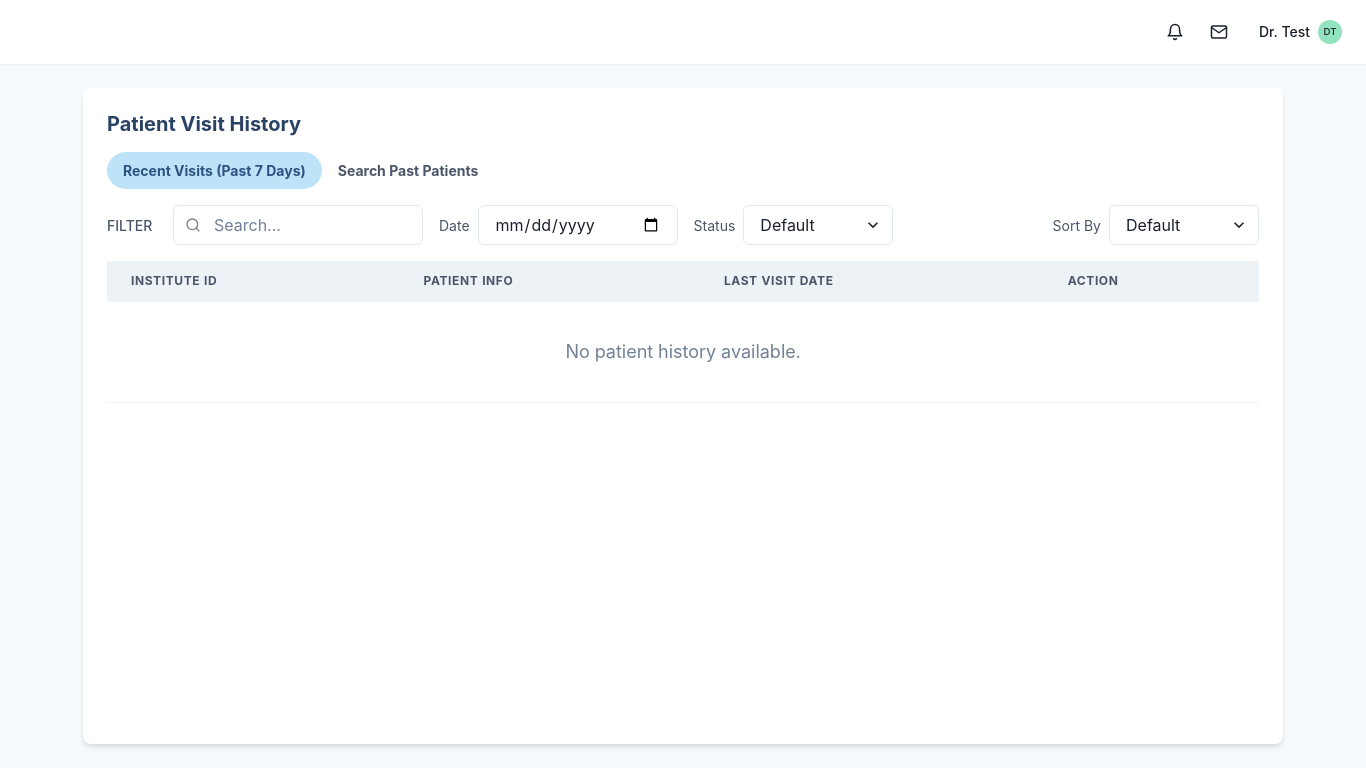
Scenario: AllPatients Component › allows searching past patients under the search tab
Expected: the tab "Recent Visits (Past 7 Days)" is shown, [107,152,322,189]
# Click Search Past Patients tab
Click the tab "Search Past Patients". click: [408, 170]
box: [322,152,494,189]
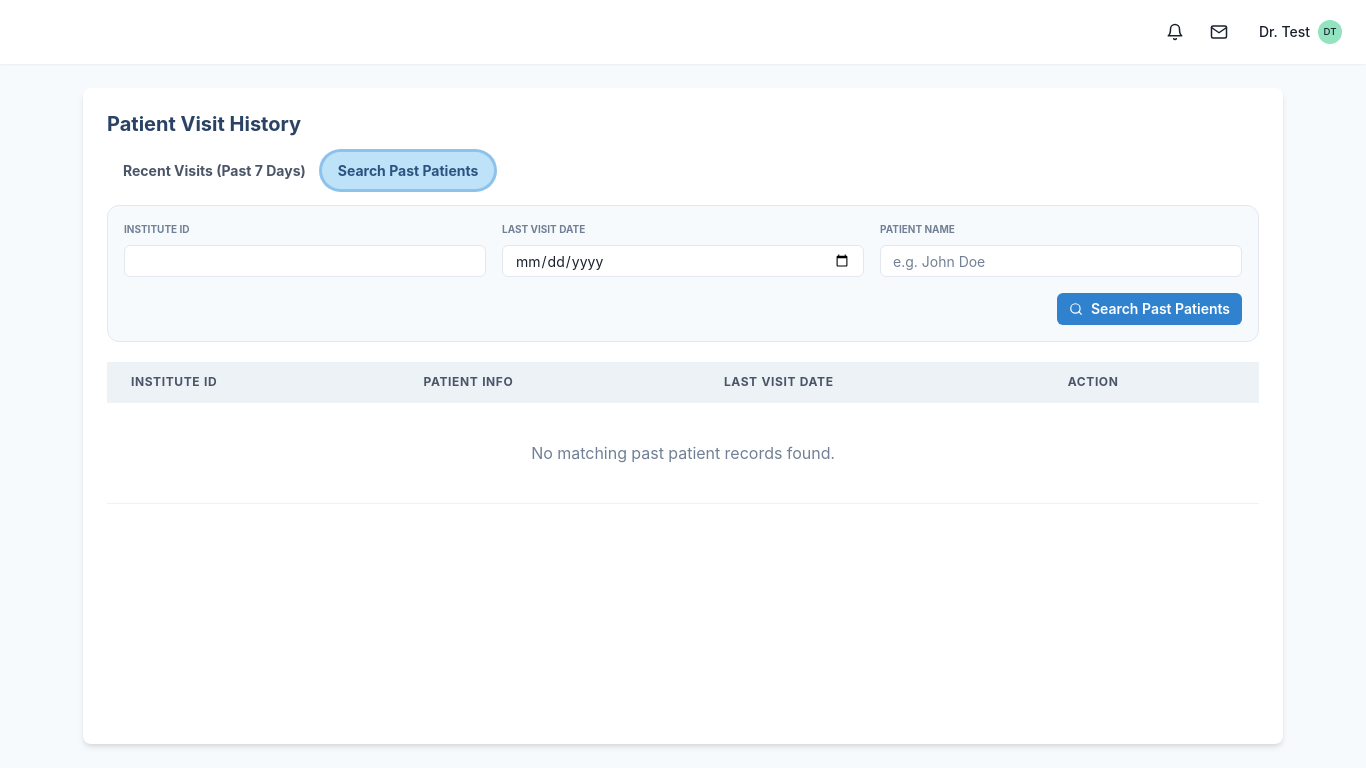
# Fill in Name in search form
Type "Searched" into the field with placeholder "e.g. John Doe". click: [1061, 261]
box: [880,245,1242,277]
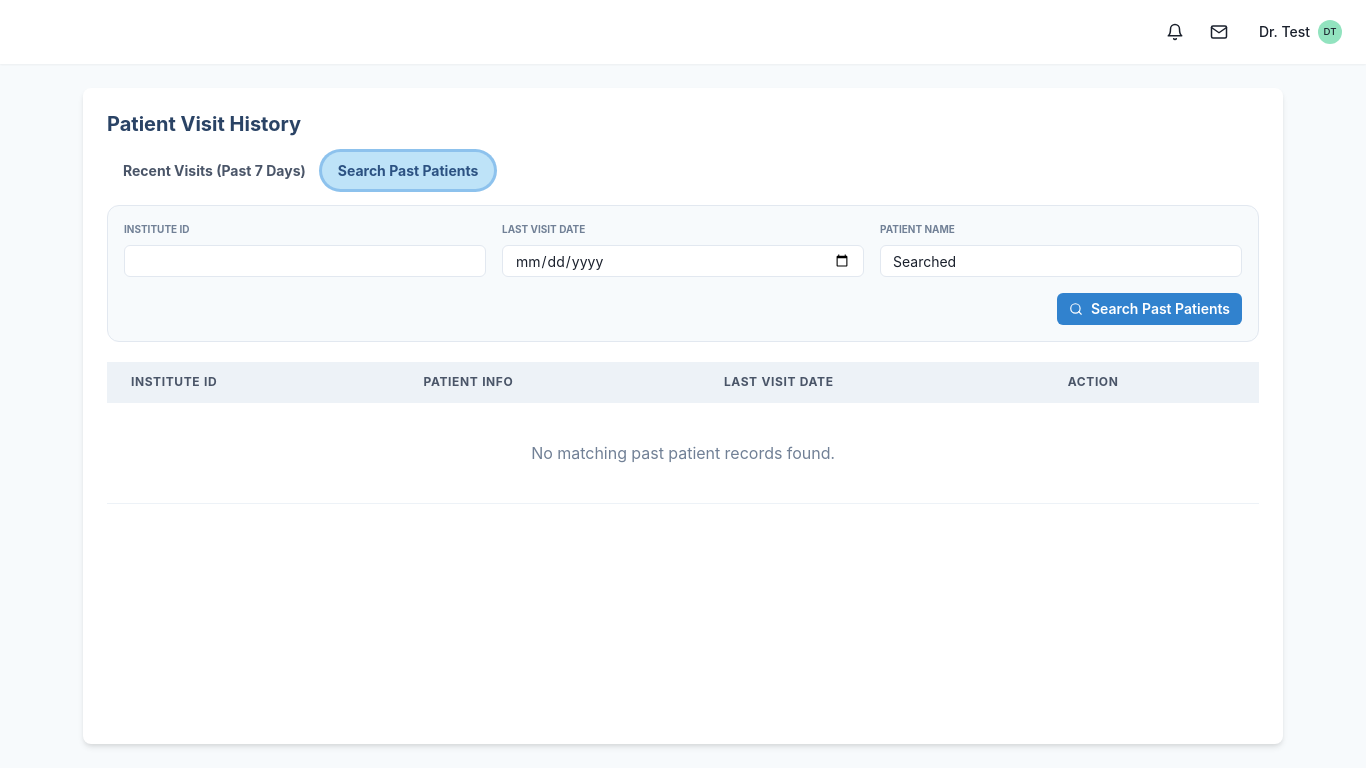
# Click Search button
Click the button "Search Past Patients". click: [1149, 309]
box: [1057,293,1242,325]
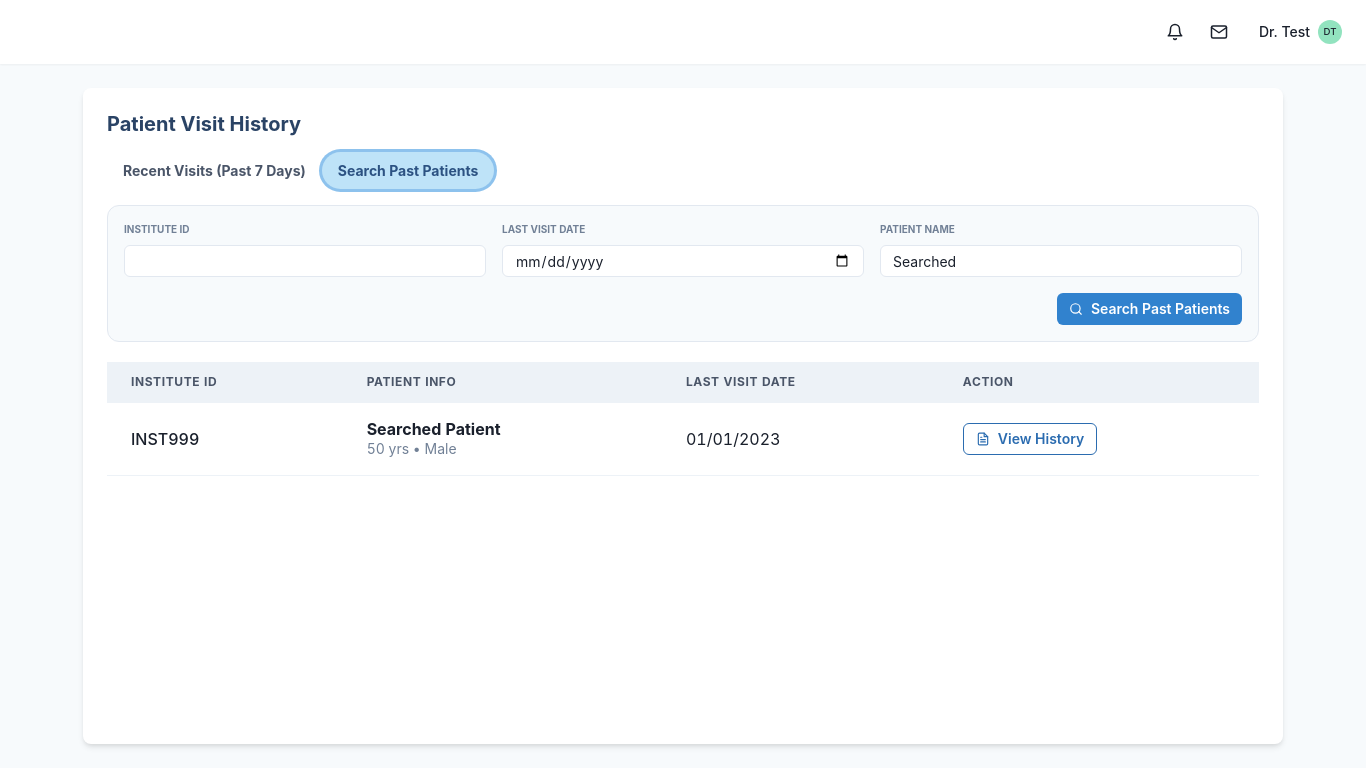
Expected: the text "Searched Patient" is shown, [367,419,500,439]
Expected: the text "INST999" is shown, [107,402,343,476]
